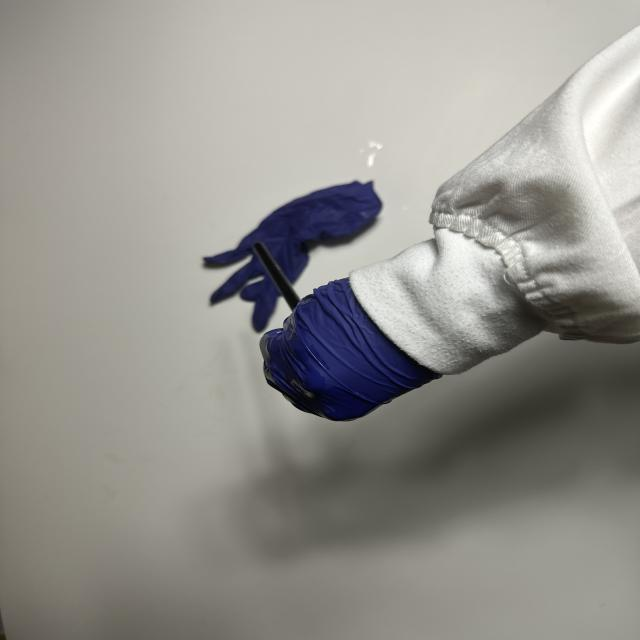gloves_contaminated: (260, 278, 441, 421)
